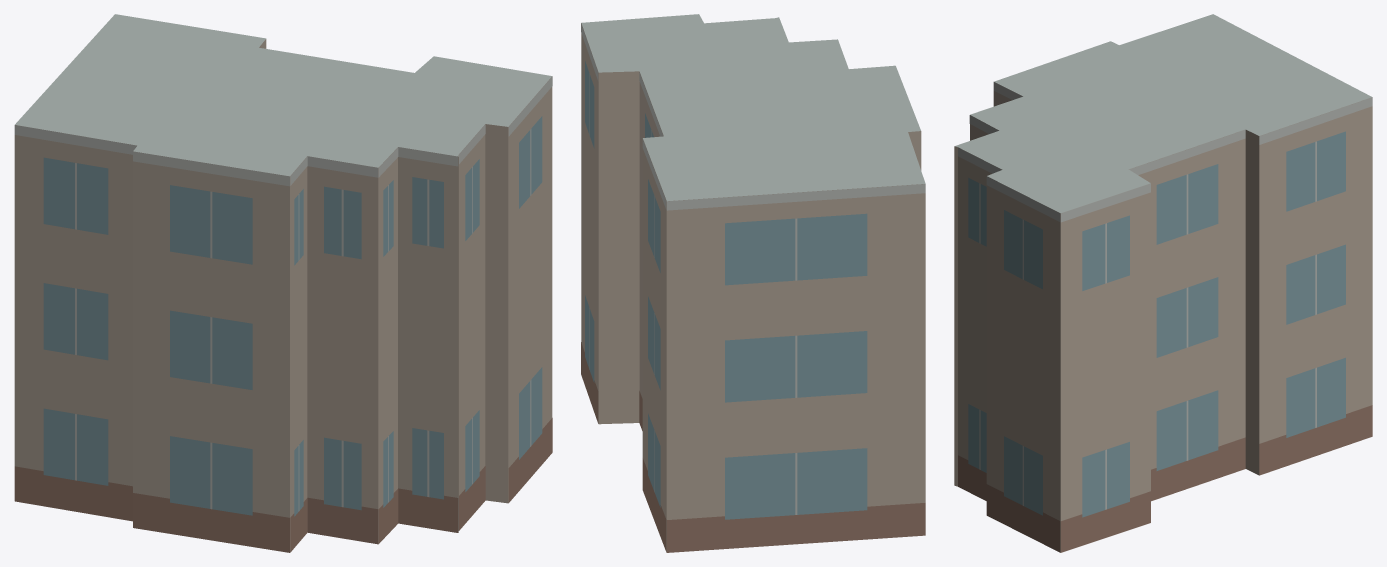
Rendered from survey-upis-32696431.glb.
The picture shows the model from 3 angles, left to right: view 1: azimuth 30°, elevation 25°; view 2: azimuth 150°, elevation 25°; view 3: azimuth 270°, elevation 25°; orthographic projection. The views are drawn at different scales.
Visible parts, largest first — view 1: survey-upis-32696431.tmp; view 2: survey-upis-32696431.tmp; view 3: survey-upis-32696431.tmp.
Boxes of the visible parts, x1,y1,x2,y2 form: survey-upis-32696431.tmp: [14, 14, 552, 552]; survey-upis-32696431.tmp: [581, 14, 925, 552]; survey-upis-32696431.tmp: [954, 14, 1372, 552].
Bounding box in the file's own units: 11.54 × 9.15 × 10.22.
